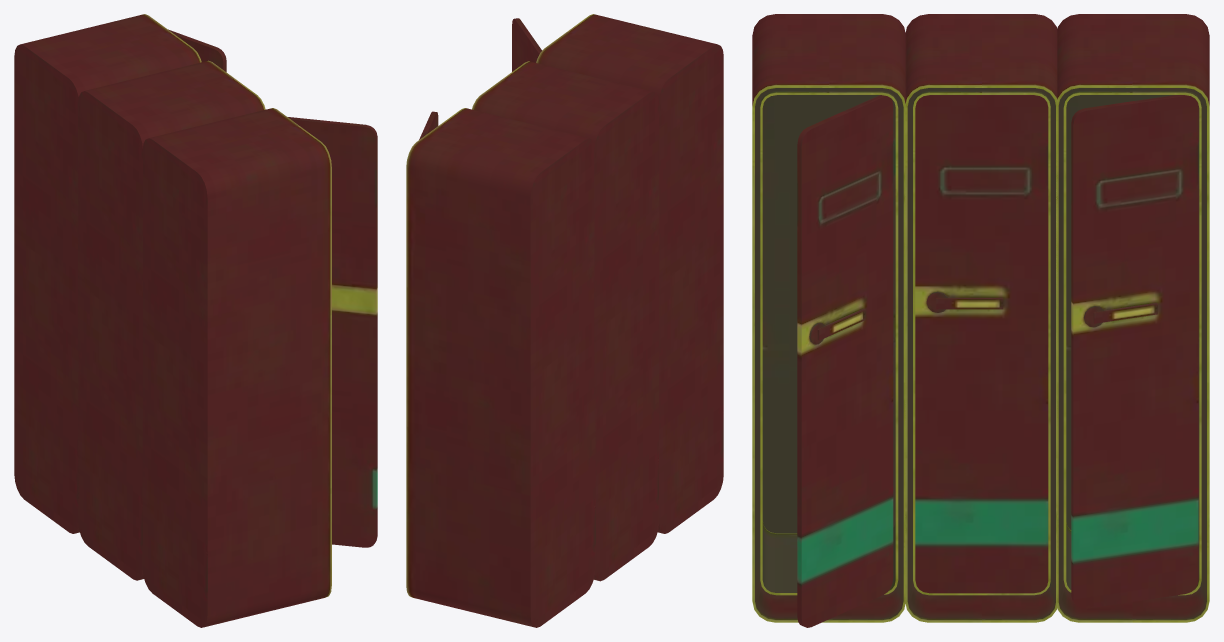
The model's file is locker.glb.
The picture shows the model from 3 angles, left to right: view 1: azimuth 30°, elevation 25°; view 2: azimuth 150°, elevation 25°; view 3: azimuth 270°, elevation 25°; orthographic projection. The views are drawn at different scales.
Parts seen in each view (by area): view 1: locker_low_locker.001_0; view 2: locker_low_locker.001_0; view 3: locker_low_locker.001_0.
Part boxes in pixels (left/top/right/bottom): locker_low_locker.001_0: left=14, top=14, right=377, bottom=627; locker_low_locker.001_0: left=406, top=14, right=723, bottom=627; locker_low_locker.001_0: left=752, top=14, right=1209, bottom=627.
Bounding box in the file's own units: 0.7608 × 1.73 × 1.33.
Materials: 1 (1 with a texture image).
